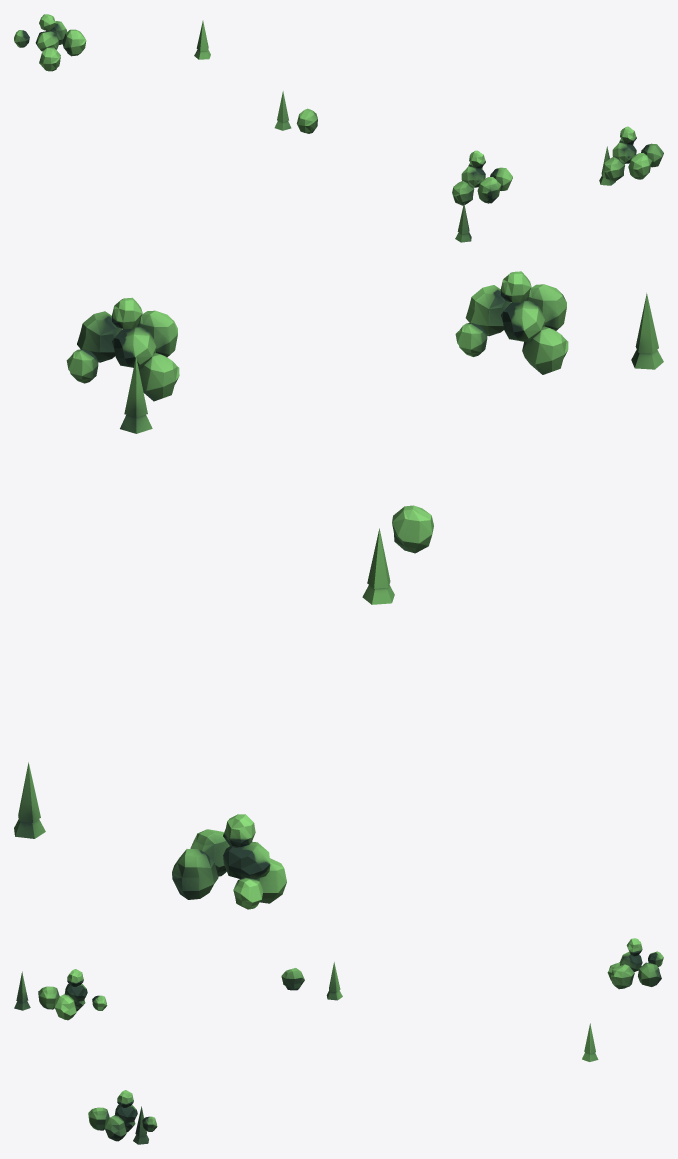
File: Wood_04.FBX
3 views of the same model, one above another, from view 1: azimuth 30°, elevation 25°; view 2: azimuth 150°, elevation 25°; view 3: azimuth 270°, elevation 25° (orthographic). The views are drawn at different scales.
Visible parts, largest first — view 1: Wood_04; view 2: Wood_04; view 3: Wood_04.
Boxes of the visible parts, bbox=[...] form: Wood_04: bbox=[14, 14, 663, 242]; Wood_04: bbox=[14, 271, 663, 909]; Wood_04: bbox=[14, 938, 663, 1144].
Bounding box in the file's own units: 27.05 × 6.65 × 42.05.
